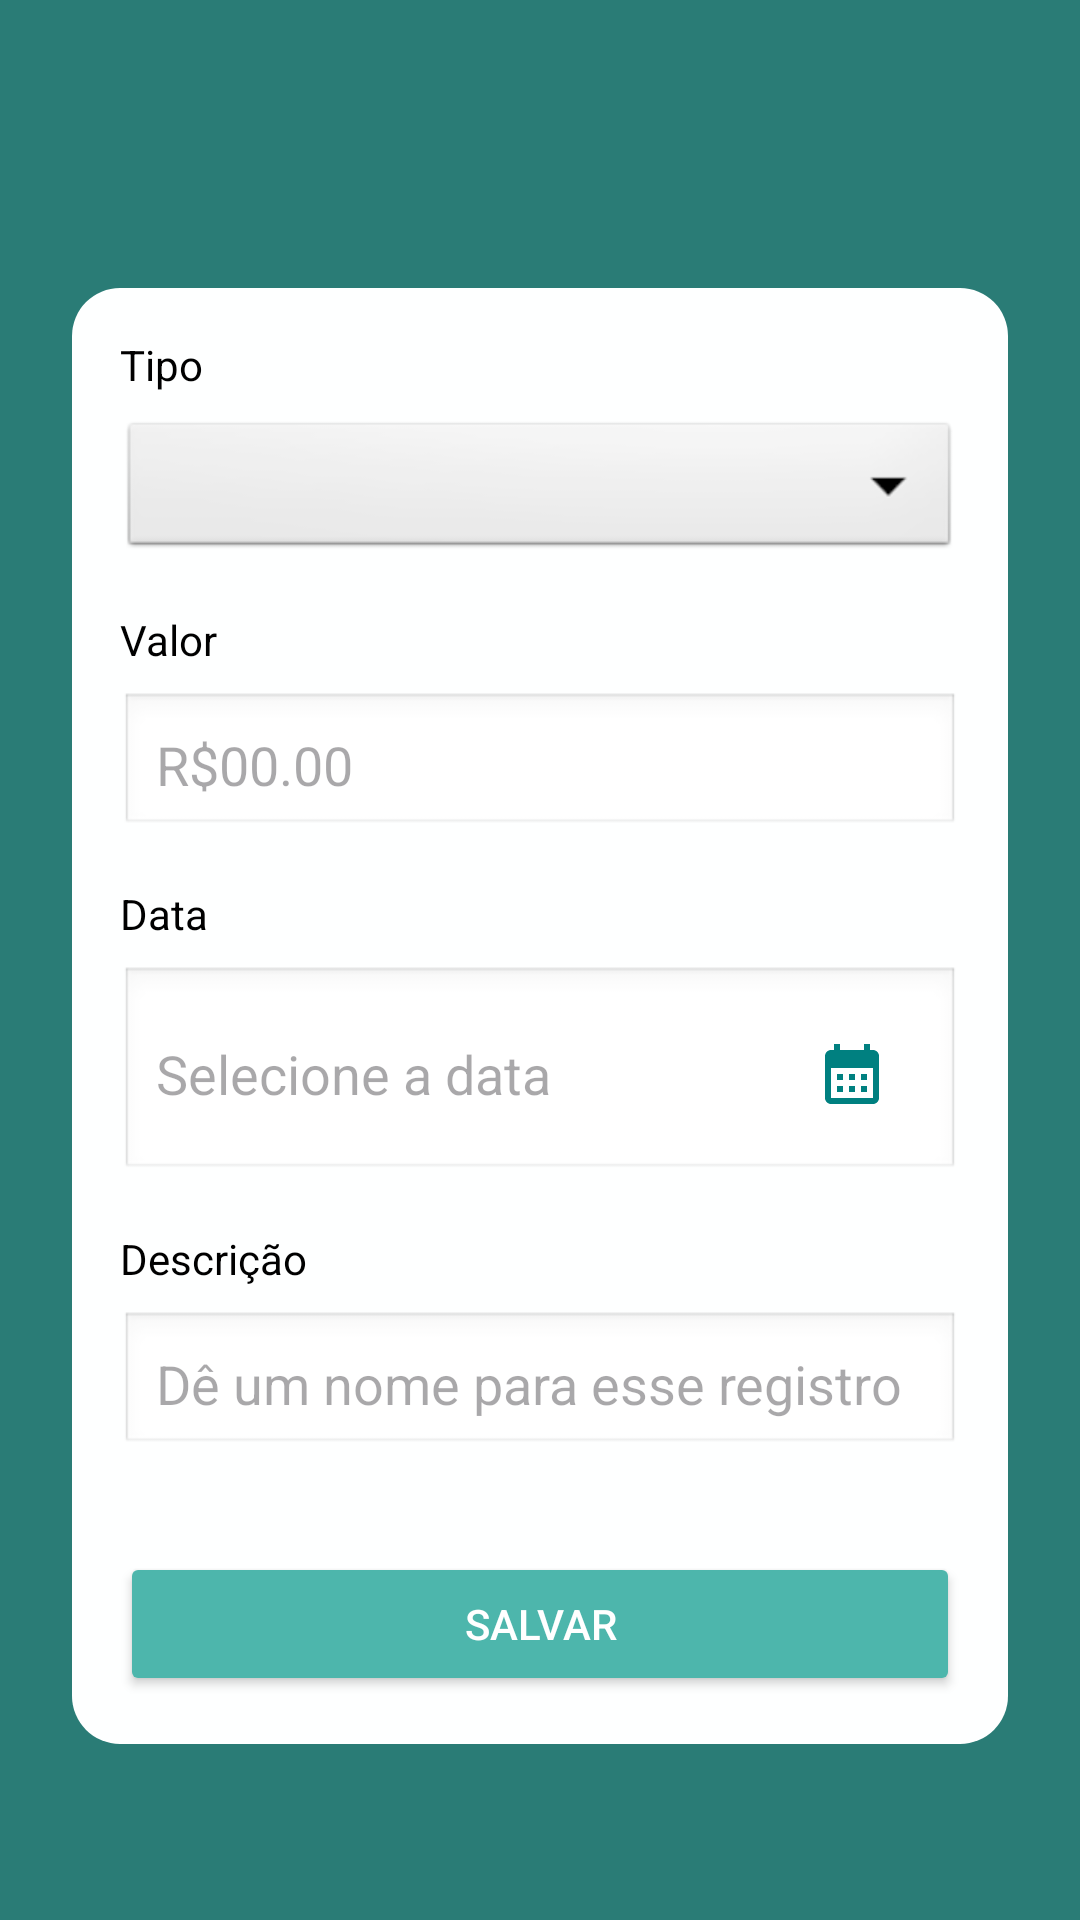

Where to tap for icons on this 1080x1920 app screen, as (x,y):
Calendar: (852,1074)
